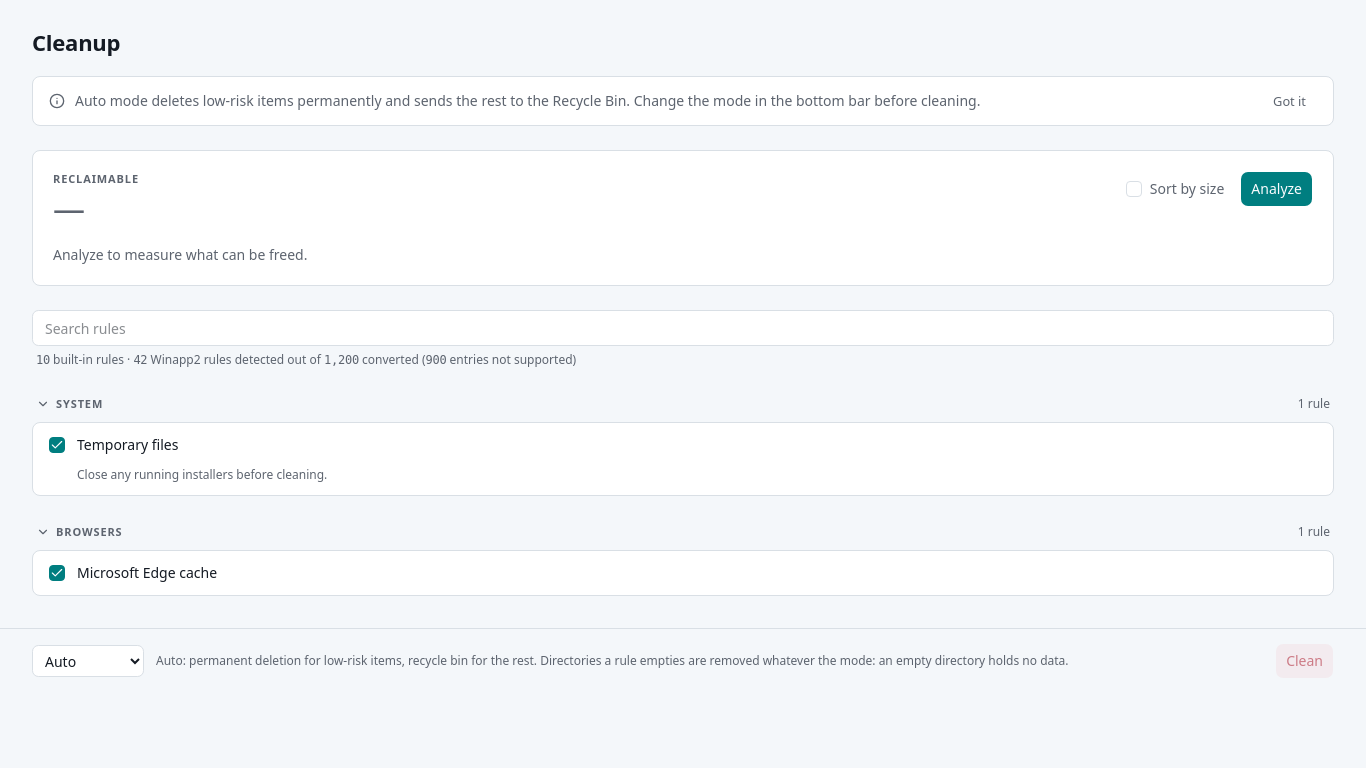
Test case: CleanPanel › makes the path list a named region behind a labelled toggle
expect the checkbox named "Temporary files" is shown: met, box [49, 437, 65, 453]
Click the button "Analyze".
click(1277, 189)  # box [1240, 171, 1313, 207]
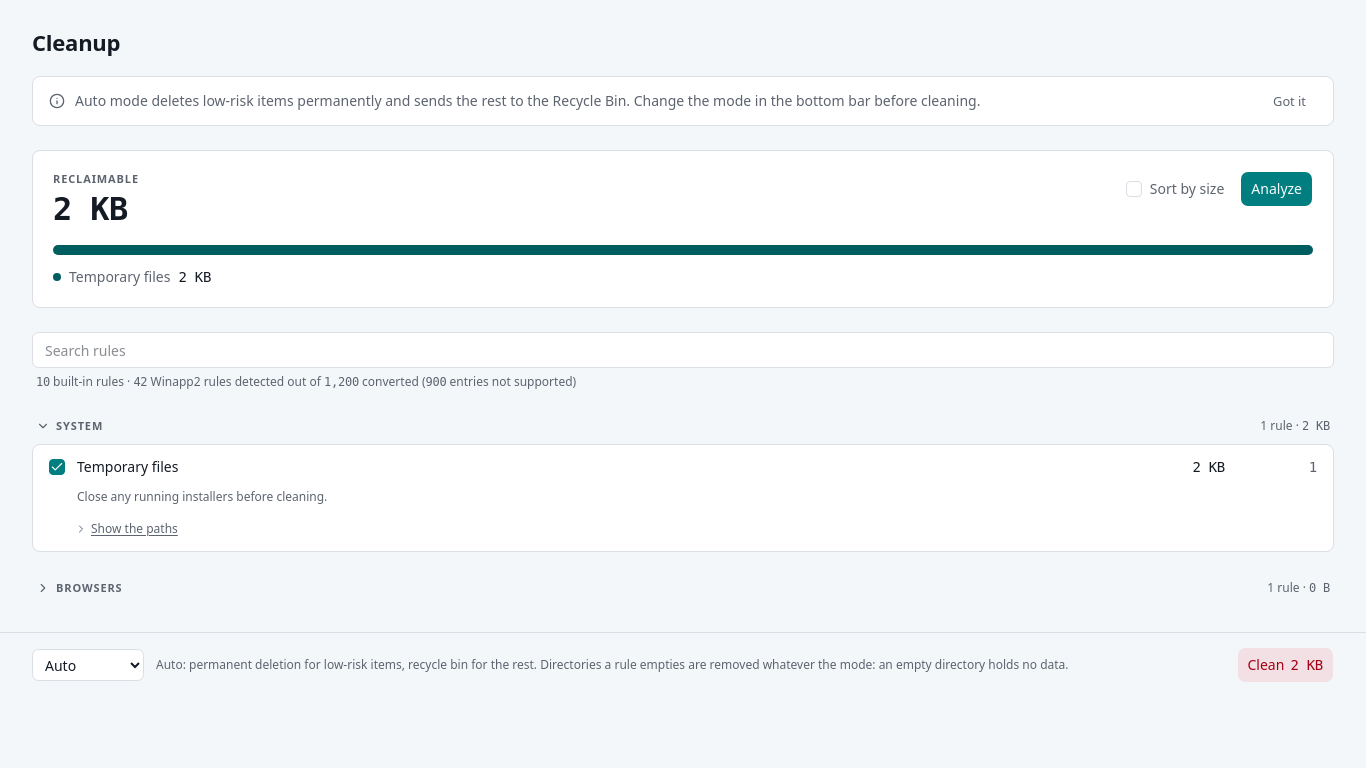
Click the button with test id "toggle-paths-windows.temp".
click(126, 529)  # box [71, 519, 182, 539]
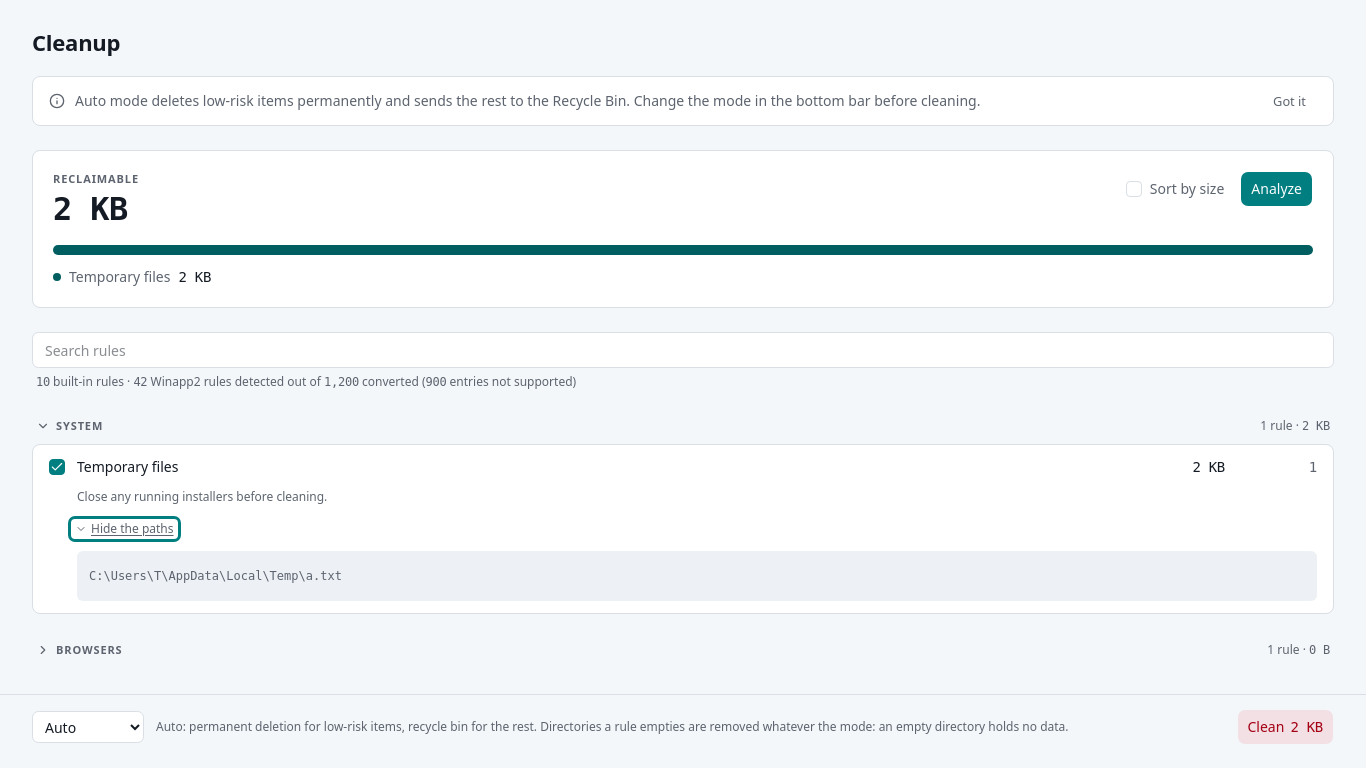
expect the button with test id "toggle-paths-windows.temp" is expanded: met, box [71, 519, 178, 539]
expect the element named "Paths of Temporary files" reads "C:\\Users\\T\\AppData\\Local\\Temp\\a.txt": met, box [89, 569, 342, 583]
